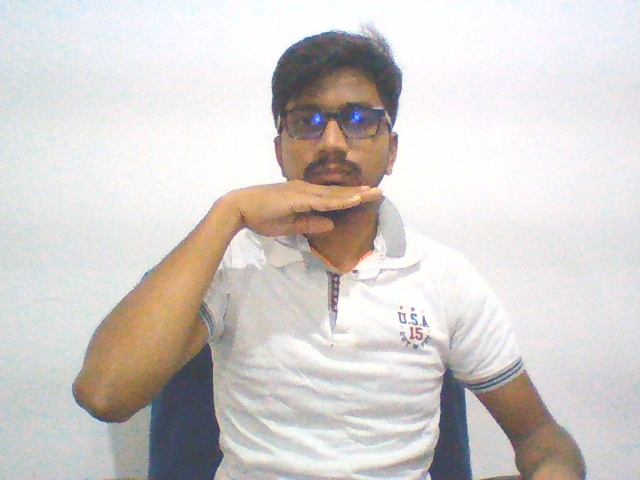elephant: (214, 173, 392, 243)
